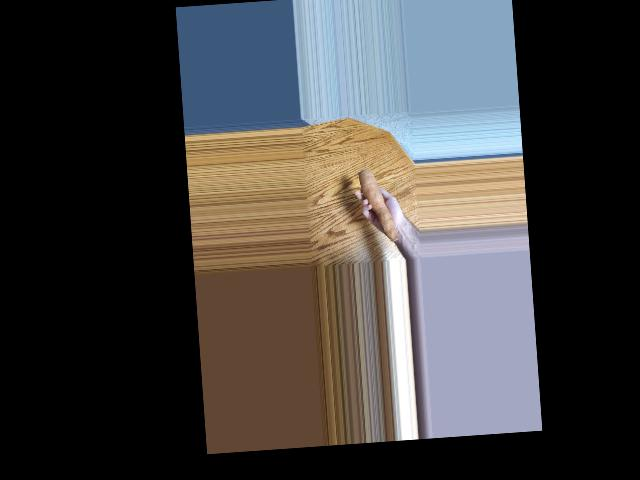sweet_potato: (356, 166, 400, 246)
